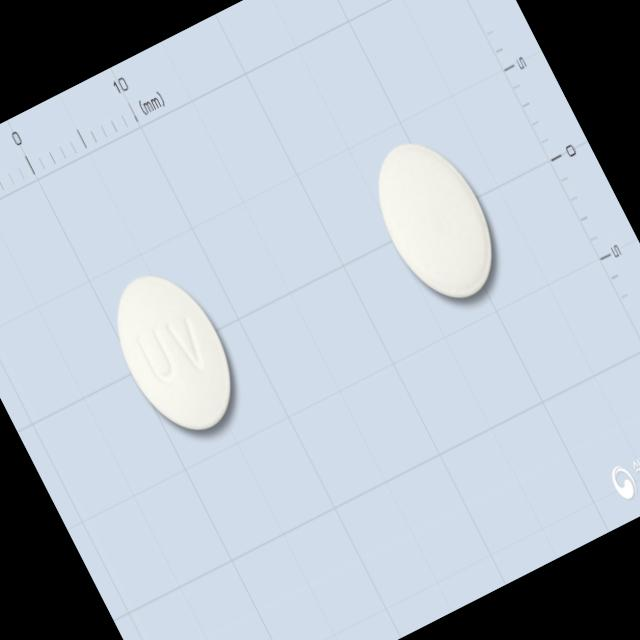Unilevo Tab: (93, 254, 255, 448)
